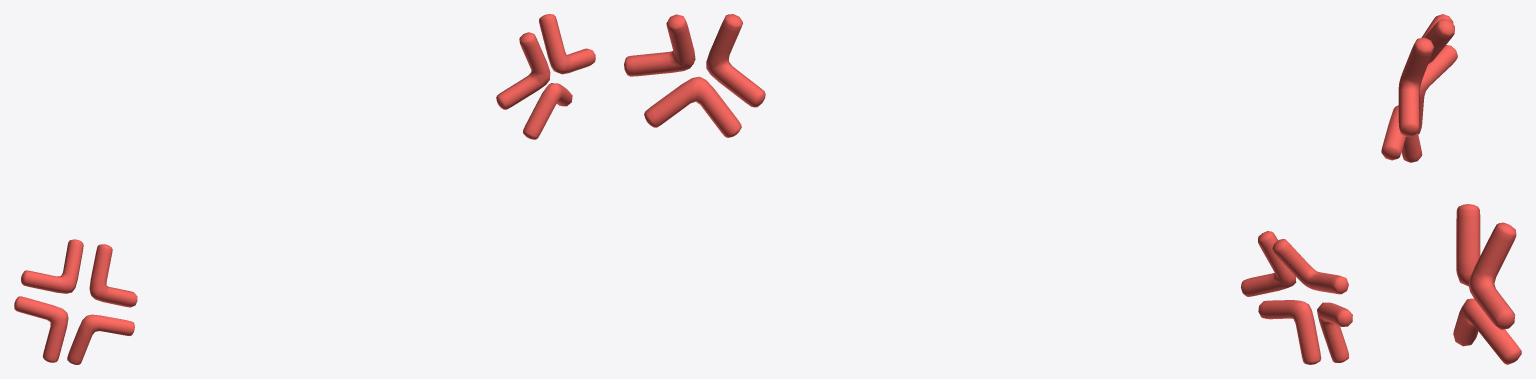
Rendered from Emotion_Tendon.fbx.
3 views of the same model, side by side, from view 1: azimuth 30°, elevation 25°; view 2: azimuth 150°, elevation 25°; view 3: azimuth 270°, elevation 25° (orthographic). The views are drawn at different scales.
Parts seen in each view (by area): view 1: Tendon_03 (×2), Tendon_02 (×2), Tendon_01 (×2), Tendon_04; view 2: Tendon_01 (×2), Tendon_03 (×2), Tendon_02 (×2), Tendon_04; view 3: Tendon_02 (×2), Tendon_01 (×2), Tendon_03 (×2), Tendon_04.
Part boxes in pixels (x1,y1,x2,y2): Tendon_03 (×2): (21, 32, 550, 293); Tendon_02 (×2): (89, 14, 595, 307); Tendon_01 (×2): (67, 83, 572, 364); Tendon_04: (14, 296, 68, 362); Tendon_01 (×2): (644, 76, 1321, 364); Tendon_03 (×2): (706, 14, 1348, 294); Tendon_02 (×2): (624, 14, 1296, 296); Tendon_04: (1317, 302, 1352, 362); Tendon_02 (×2): (1398, 37, 1516, 329); Tendon_01 (×2): (1381, 105, 1521, 364); Tendon_03 (×2): (1421, 14, 1480, 286); Tendon_04: (1418, 45, 1457, 134).
Bounding box in the file's own units: 147 × 46.72 × 22.61.
